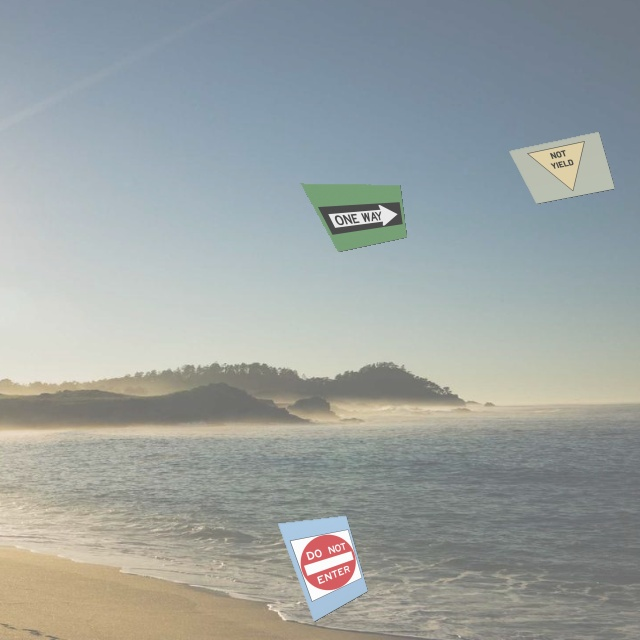DO_NOT_ENTER: (290, 528, 365, 604)
NOT_YIELD: (527, 137, 599, 203)
ONE_WAY_ right: (318, 199, 407, 236)
